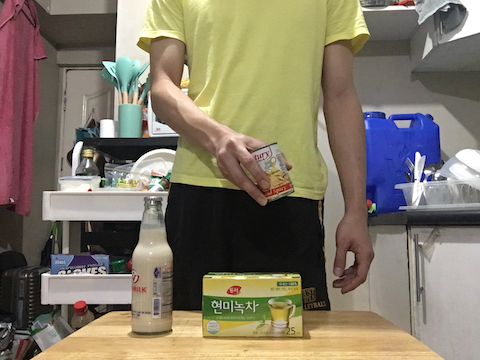bottle: (126, 192, 179, 338)
box: (199, 271, 309, 344)
can: (249, 134, 296, 205)
grab: (219, 140, 272, 210)
